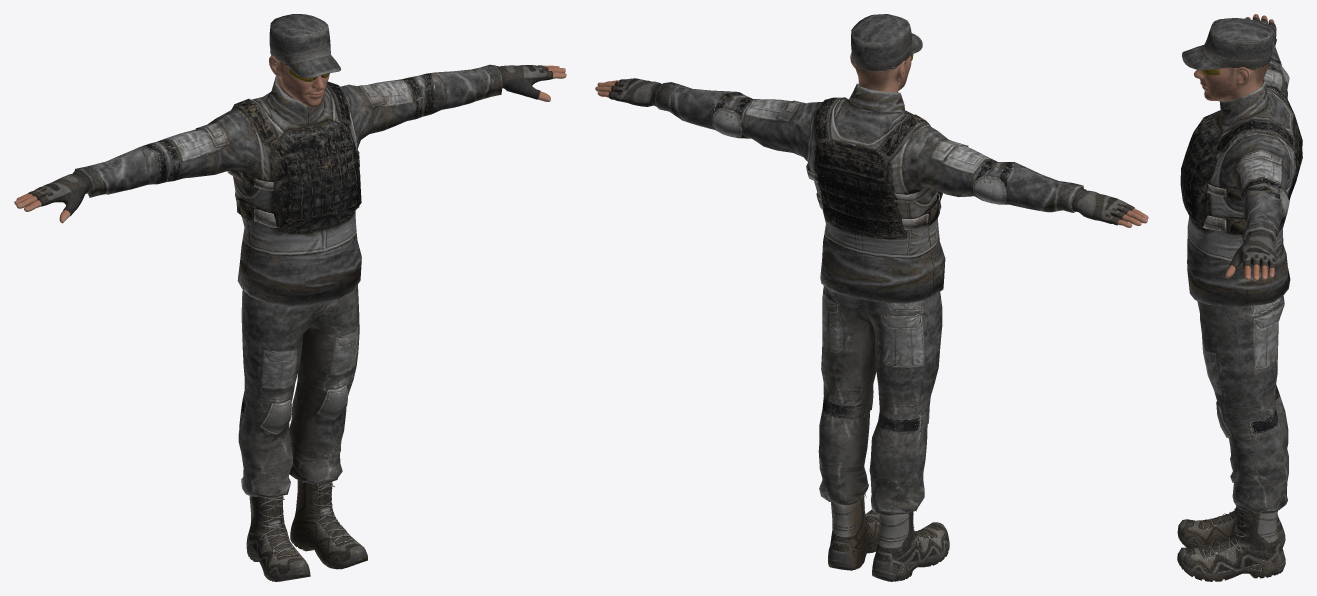
File: Facility Guard.obj
The picture shows the model from 3 angles, left to right: view 1: azimuth 30°, elevation 25°; view 2: azimuth 150°, elevation 25°; view 3: azimuth 270°, elevation 25°; orthographic projection.
Parts seen in each view (by area): view 1: Tops, Bottoms, Shoes, Hats, Gloves, Body; view 2: Tops, Bottoms, Shoes, Hats, Gloves, Body; view 3: Tops, Bottoms, Shoes, Hats, Body, Gloves.
Part boxes in pixels (box(x1,y1,x2,y2)): Tops: box(74, 64, 502, 306); Bottoms: box(238, 284, 359, 498); Shoes: box(246, 480, 367, 581); Hats: box(269, 14, 340, 78); Gloves: box(28, 65, 553, 216); Body: box(14, 56, 566, 223); Tops: box(654, 82, 1083, 303); Bottoms: box(818, 286, 942, 516); Shoes: box(828, 494, 949, 581); Hats: box(851, 14, 922, 71); Gloves: box(608, 78, 1134, 225); Body: box(595, 52, 1148, 227); Tops: box(1180, 32, 1302, 306); Bottoms: box(1197, 295, 1288, 513); Shoes: box(1177, 506, 1285, 581); Hats: box(1182, 18, 1272, 70); Body: box(1194, 14, 1274, 280); Gloves: box(1228, 17, 1276, 270).
Size of the model in its own units: 194 by 182 by 38.63.
7 materials, 7 textured.
